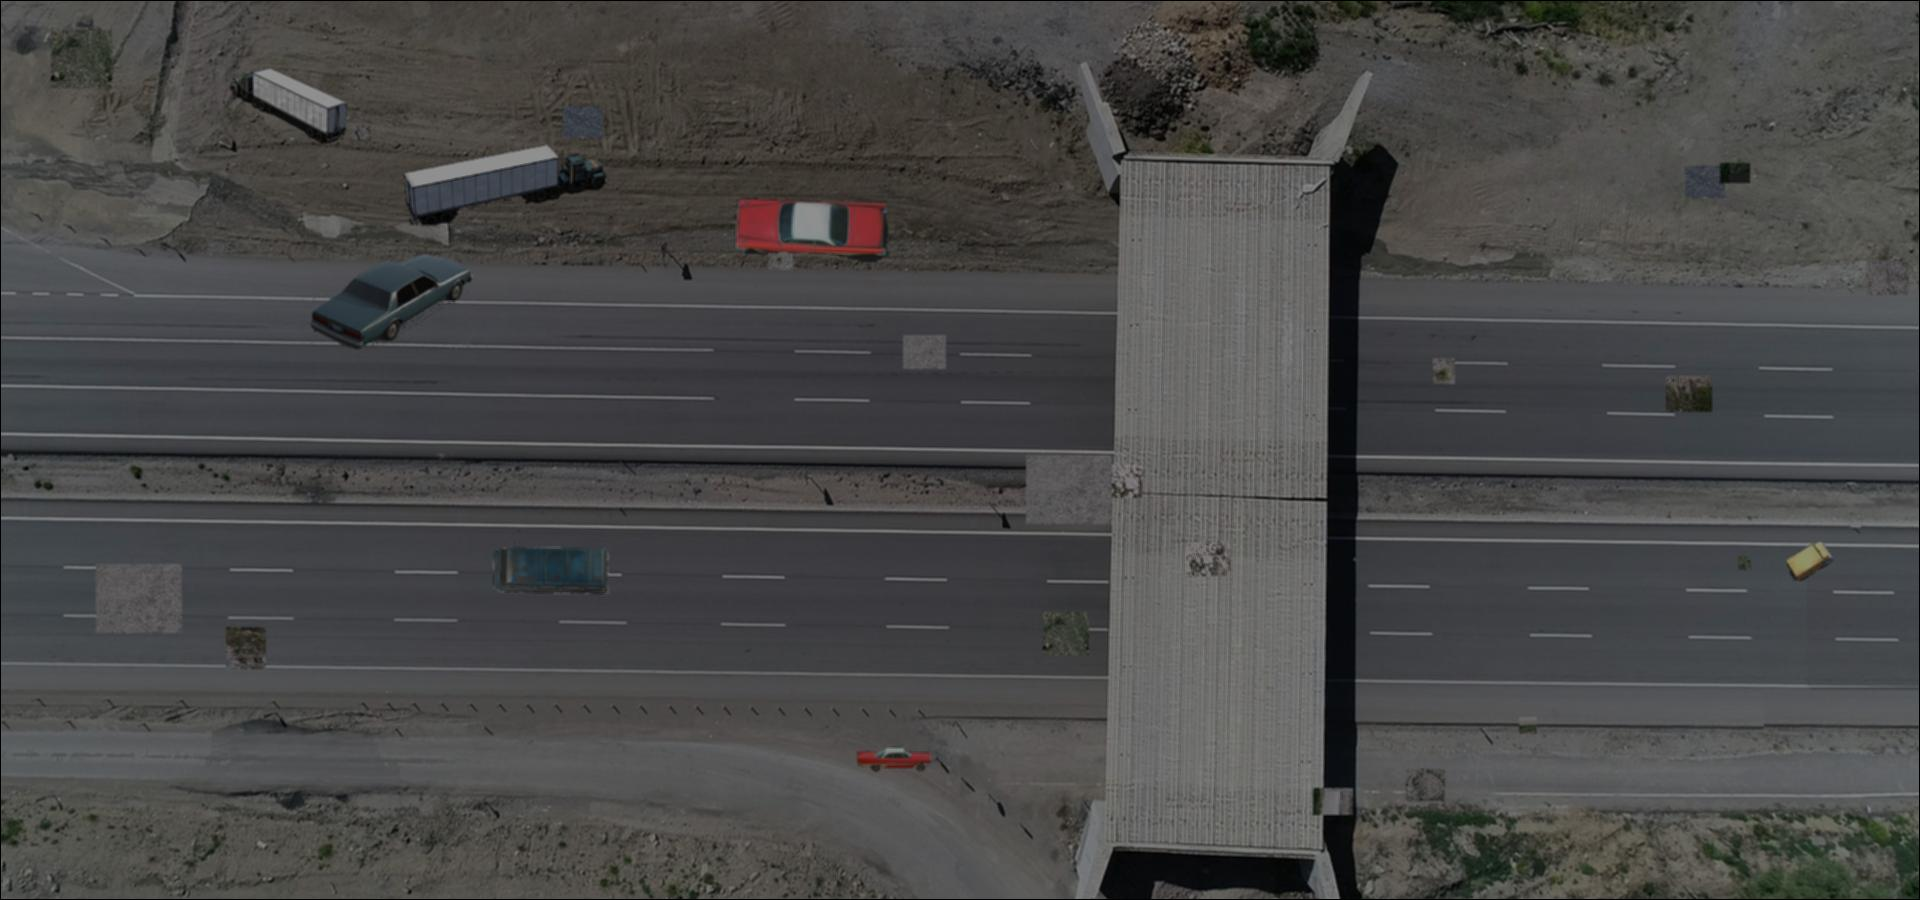arac: (400, 142, 610, 225), (302, 252, 475, 349), (733, 196, 894, 263), (224, 58, 348, 144), (489, 542, 611, 598), (853, 744, 936, 774), (1787, 538, 1834, 580)
